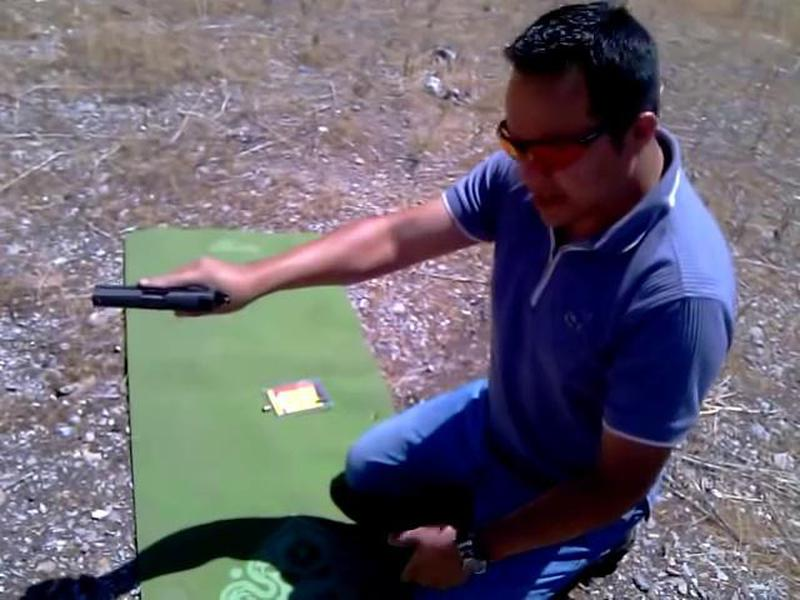Pistola: (80, 271, 250, 332)
